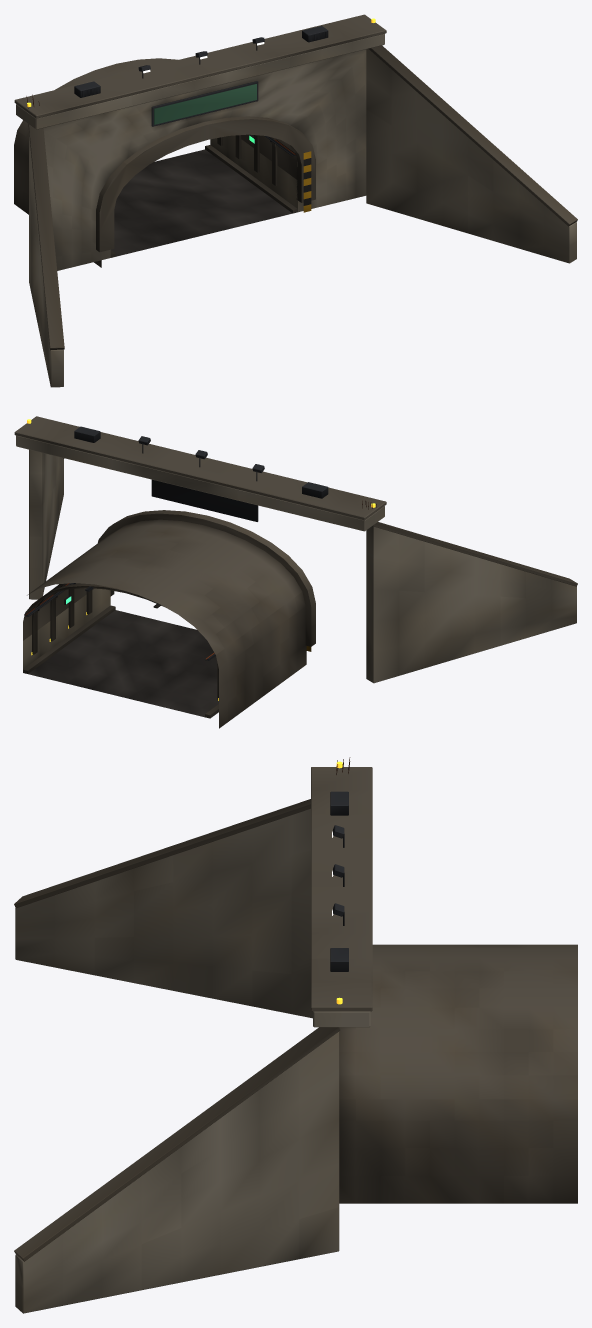
Rendered from tunnel_exit_concrete.glb.
3 renders of one model, top to bottom at view 1: azimuth 30°, elevation 25°; view 2: azimuth 150°, elevation 25°; view 3: azimuth 270°, elevation 25°, orthographic. The views are drawn at different scales.
Visible parts, largest first — view 1: concrete, concrete_dark, road_surface, metal_dark, paint2, hazard; view 2: concrete_dark, concrete, road_surface, metal_dark; view 3: concrete, concrete_dark, metal_dark.
Part boxes in pixels (box(x1,y1,x2,y2)): concrete: box(16, 33, 576, 387); concrete_dark: box(14, 14, 577, 350); road_surface: box(111, 149, 292, 256); metal_dark: box(74, 26, 328, 156); paint2: box(154, 84, 256, 124); hazard: box(303, 151, 311, 212); concrete_dark: box(14, 416, 577, 728); concrete: box(16, 435, 576, 683); road_surface: box(28, 610, 218, 717); metal_dark: box(24, 426, 328, 660); concrete: box(15, 808, 370, 1313); concrete_dark: box(14, 767, 577, 1261); metal_dark: box(330, 791, 348, 971).
Size of what is drawn, in the model's own units: 41.7 by 14.32 by 27.45.
